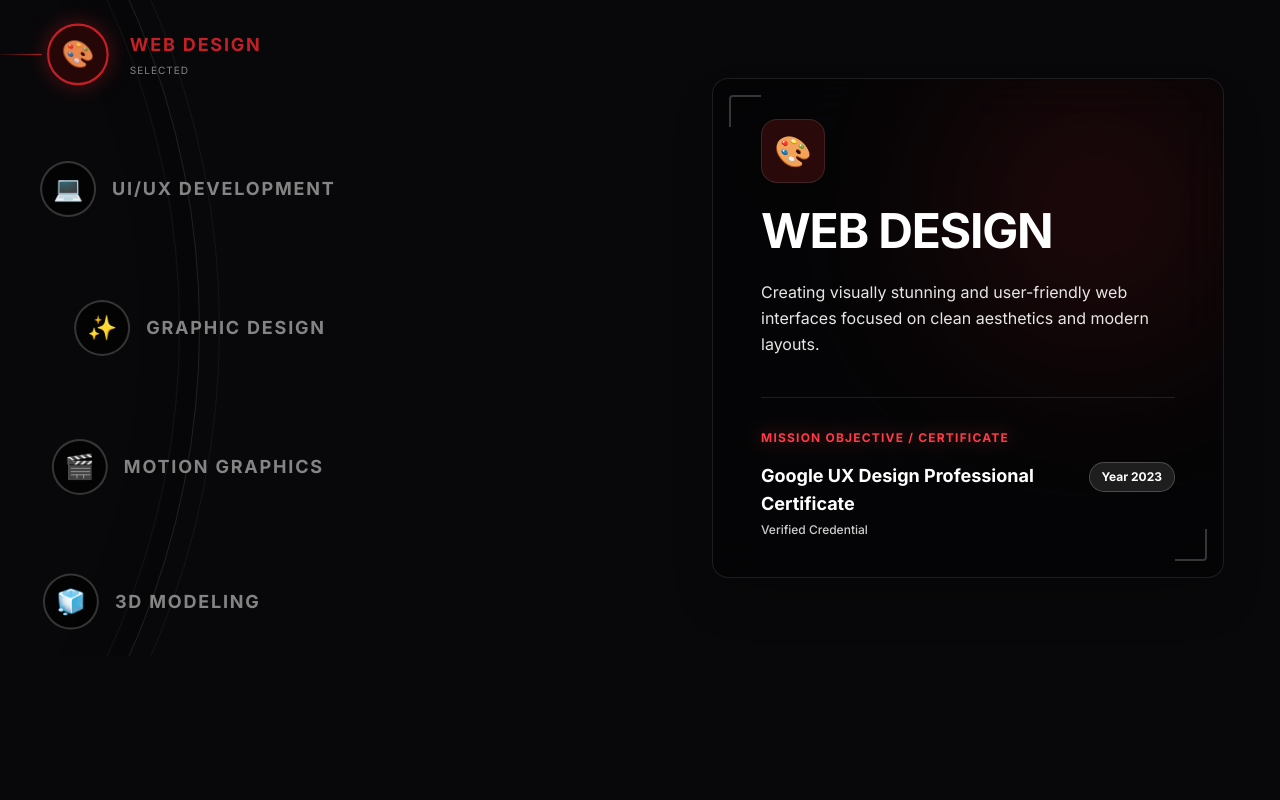
Test: SkillShowcase Component › updates selected skill when clicked
Click the heading "UI/UX Development". click: coordinates (224, 189)
box: 112,175 -> 336,203
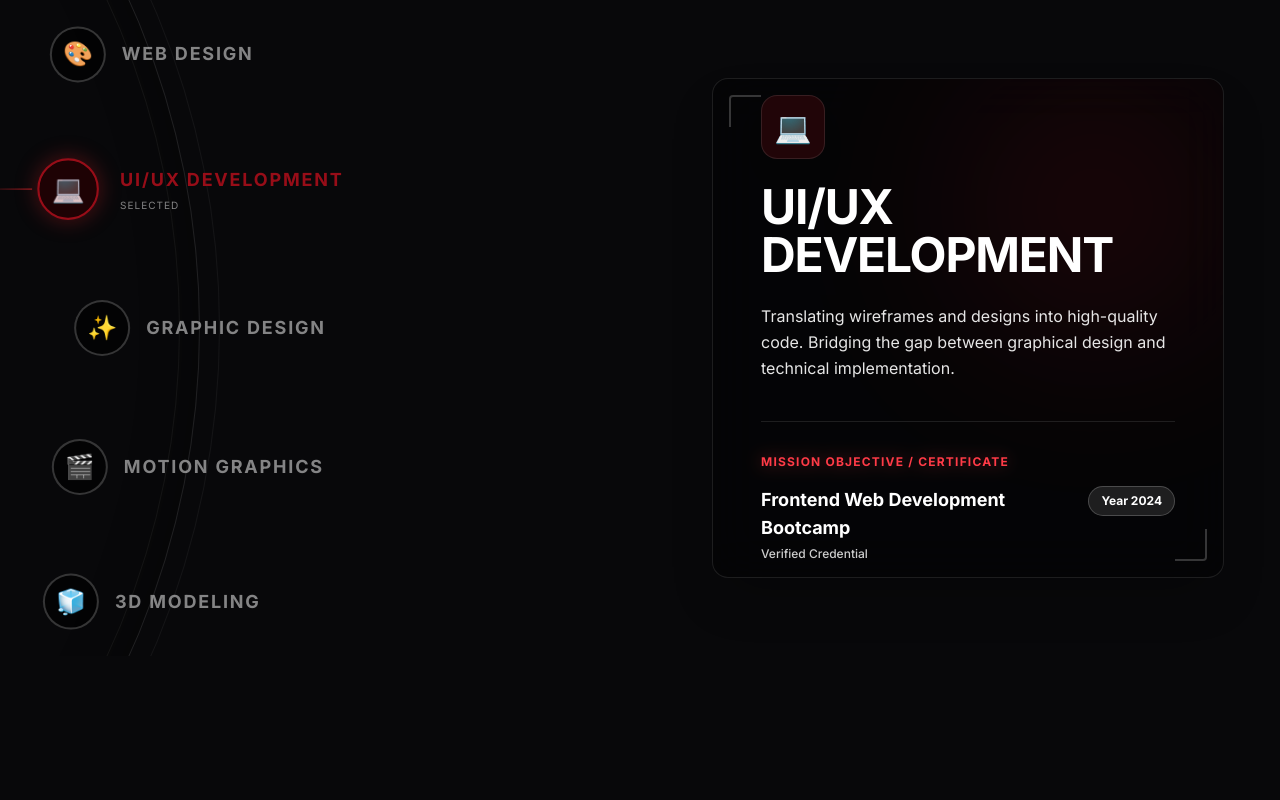
Check: the text "Frontend Web Development Bootcamp" is shown, box 761,488 -> 1005,538
